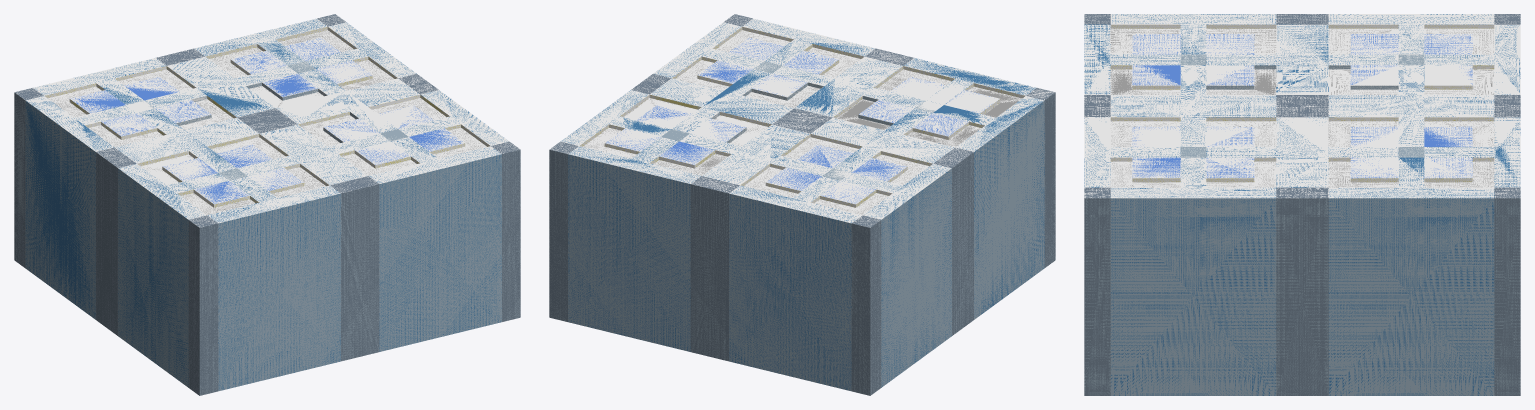
The model's file is Floor.fbx.
The picture shows the model from 3 angles, left to right: view 1: azimuth 30°, elevation 25°; view 2: azimuth 150°, elevation 25°; view 3: azimuth 270°, elevation 25°; orthographic projection. The views are drawn at different scales.
Parts seen in each view (by area): view 1: Component_1_1; view 2: Component_1_1; view 3: Component_1_1.
Part boxes in pixels (box(x1,y1,x2,y2)): Component_1_1: box(14, 14, 520, 395); Component_1_1: box(549, 14, 1055, 395); Component_1_1: box(1084, 14, 1520, 395).
Size of the model in its own units: 1 by 0.5 by 1.
